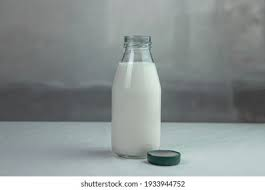milk: (103, 33, 169, 162)
